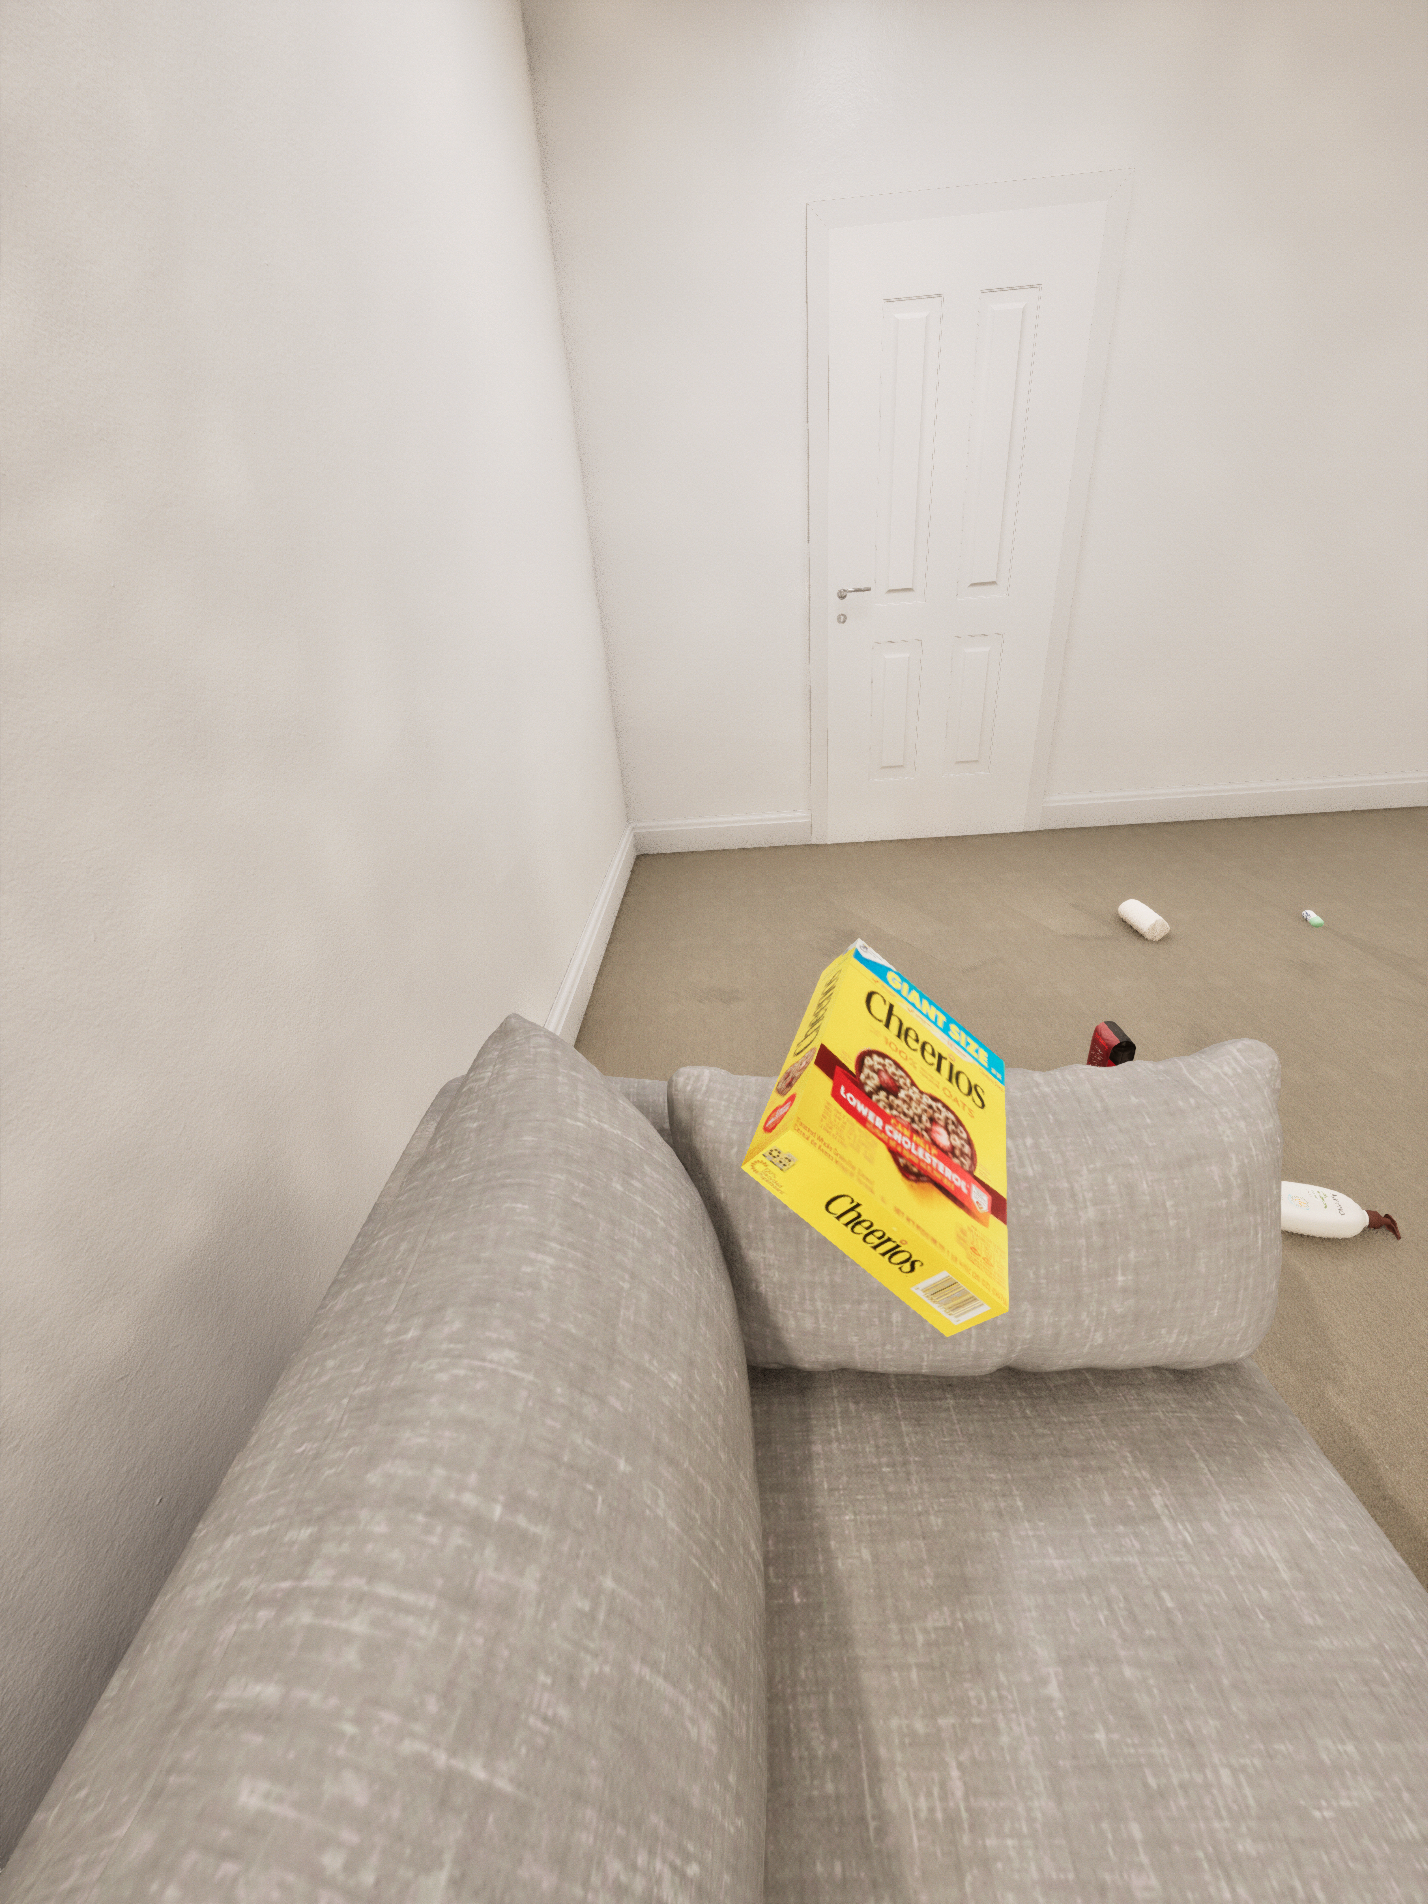cheerios: (147, 373, 277, 421)
soup: (558, 778, 672, 945)
